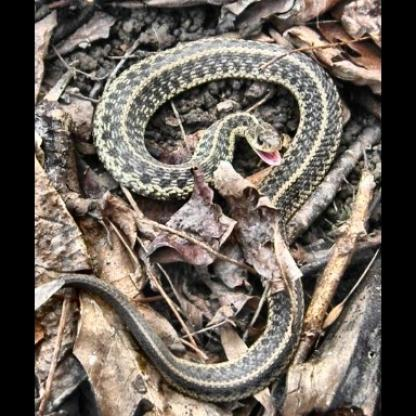Snake: (69, 38, 344, 402)
